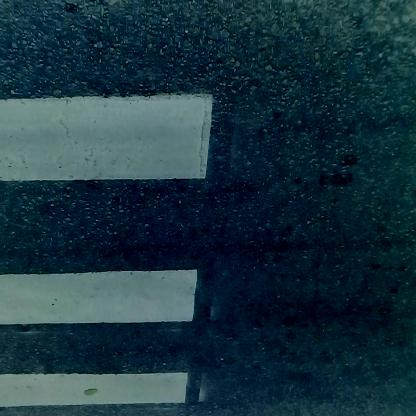crosswalk: (2, 48, 203, 404)
